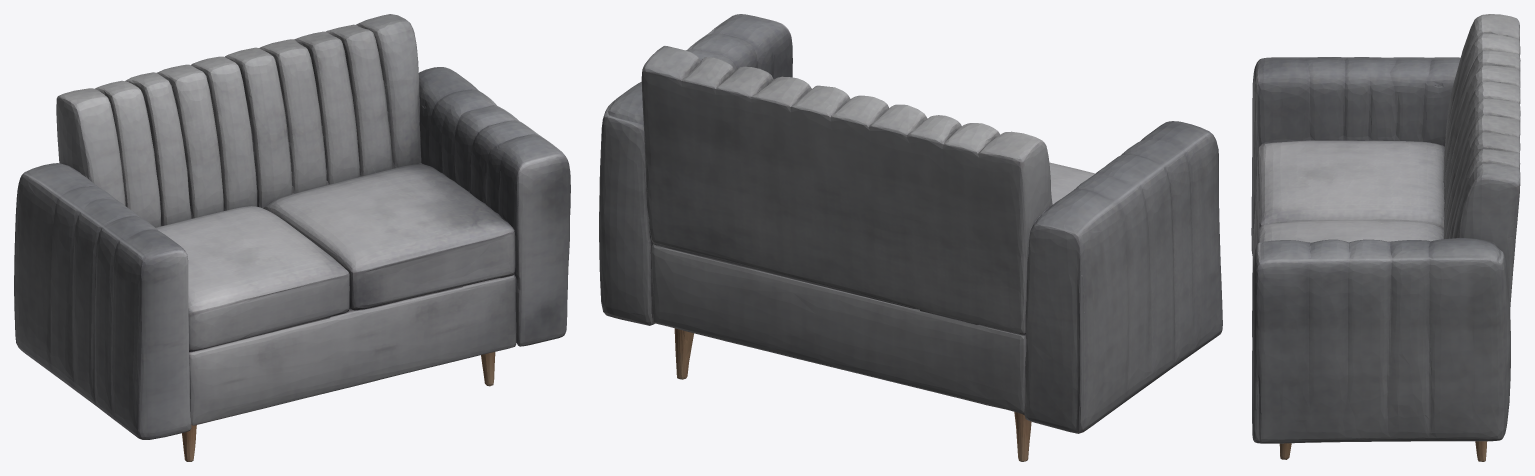
Rendered from sevilla_hero.glb.
The picture shows the model from 3 angles, left to right: view 1: azimuth 30°, elevation 25°; view 2: azimuth 150°, elevation 25°; view 3: azimuth 270°, elevation 25°; orthographic projection. The views are drawn at different scales.
Visible parts, largest first — view 1: world; view 2: world; view 3: world.
Boxes of the visible parts, left/top/right/bottom form: world: left=14, top=14, right=570, bottom=461; world: left=599, top=14, right=1222, bottom=461; world: left=1251, top=14, right=1520, bottom=461.
Size of the model in its own units: 0.9944 by 0.6305 by 0.5239.
Materials: 1 (1 with a texture image).
